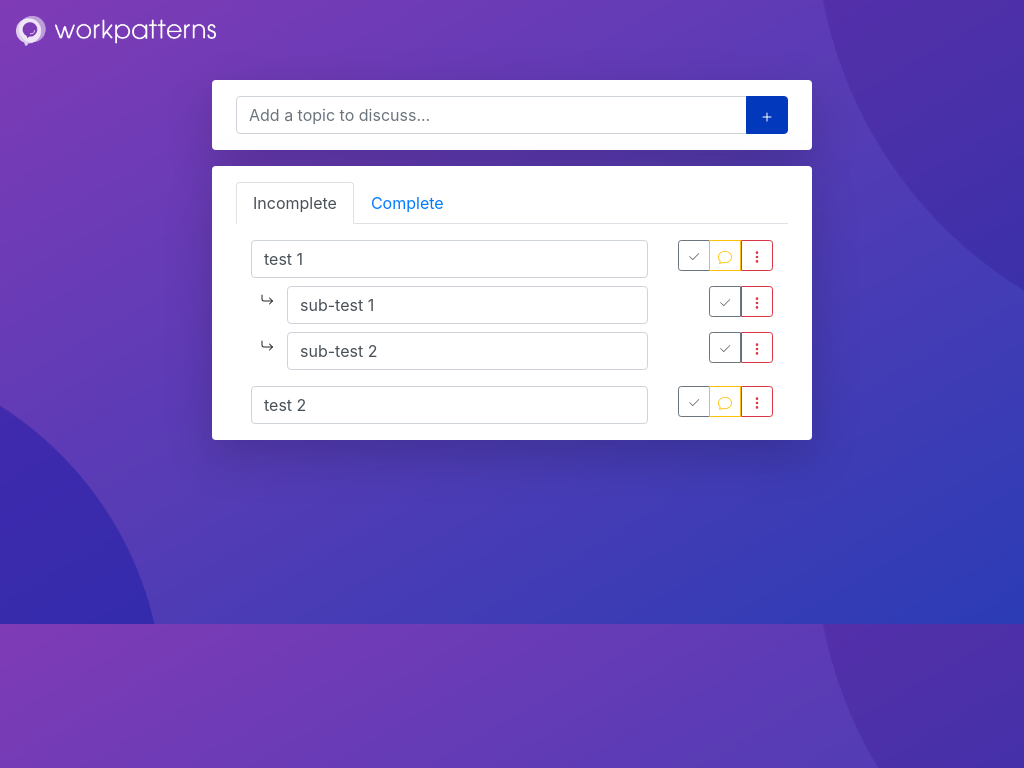
App - Integration Test › should add a topic item to the Incomplete tab when the add item button is clicked
Step 1. Click the button with test id "add-item-button" → (767, 115), box [746,96,788,134]
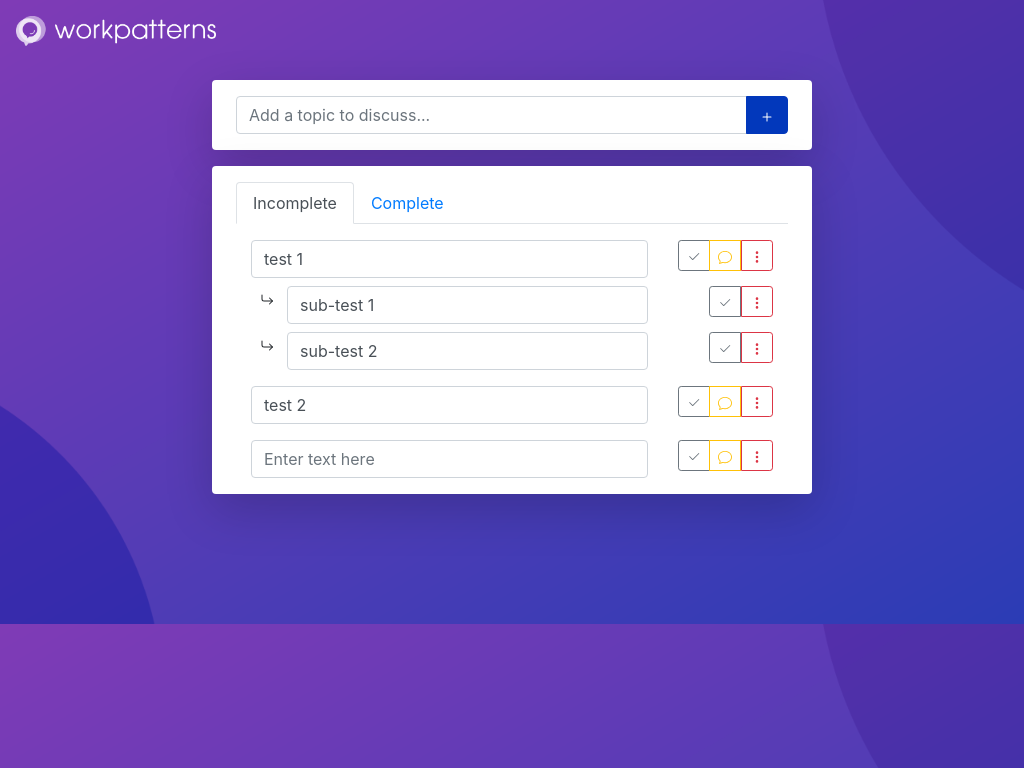
Expected: the number of elements with test id "topic-container" is 3, [236,240,788,370]; [236,386,788,424]; [236,440,788,478]
